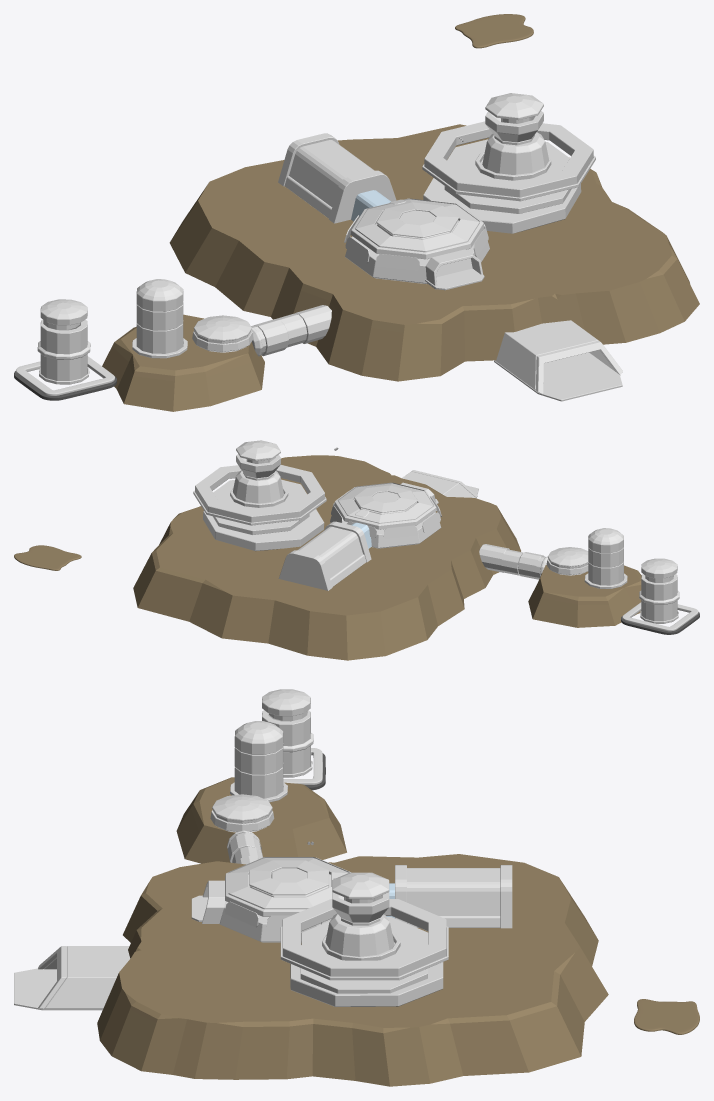
The picture shows the model from 3 angles, top to bottom: view 1: azimuth 30°, elevation 25°; view 2: azimuth 150°, elevation 25°; view 3: azimuth 270°, elevation 25°; orthographic projection. The views are drawn at different scales.
Parts seen in each view (by area): view 1: ground, ground2, Circle.039, Circle.052, Plane.012, Circle.006, Circle.008, Plane.021, Circle.050, Circle.001_slice, Plane.004, Circle.003 (+15 smaller); view 2: ground, ground2, Circle.039, Circle.052, Circle.001_slice, Circle.008, Circle.006, Plane.004, Plane.021, Circle.003, Circle.002_slice, Cylinder (+13 smaller); view 3: ground, ground2, Circle.052, Circle.039, Plane.012, Plane.021, Circle.006, Circle.008, Circle.001_slice, Circle.003, Circle.002_slice, Circle.043 (+11 smaller).
Boxes of the visible parts, x1,y1,x2,y2 form: ground: (169,124,699,381); ground2: (102,314,264,411); Circle.039: (345,198,489,284); Circle.052: (424,121,593,197); Plane.012: (495,320,622,393); Circle.006: (136,279,183,353); Circle.008: (40,299,87,380); Plane.021: (289,140,374,206); Circle.050: (494,352,622,401); Circle.001_slice: (423,178,581,233); Plane.004: (278,133,396,223); Circle.003: (485,93,543,145); ground: (133,455,520,660); ground2: (528,565,641,627); Circle.039: (330,483,441,548); Circle.052: (195,465,324,522); Circle.001_slice: (203,509,324,551); Circle.008: (641,558,677,621); Circle.006: (588,528,623,585); Plane.004: (278,521,371,590); Plane.021: (297,526,362,577); Circle.003: (236,440,280,480); Circle.002_slice: (233,459,283,503); Cylinder: (479,544,548,579); ground: (97,854,608,1086); ground2: (176,777,346,863); Circle.052: (282,899,446,976); Circle.039: (219,857,351,942); Plane.012: (37,946,130,1008); Plane.021: (407,868,500,915); Circle.006: (234,721,283,798); Circle.008: (262,689,310,773); Circle.001_slice: (290,962,443,1006); Circle.003: (332,872,389,925); Circle.002_slice: (325,897,394,956); Circle.043: (249,860,328,895).
Size of the model in its own units: 10978 by 2300 by 9132.
